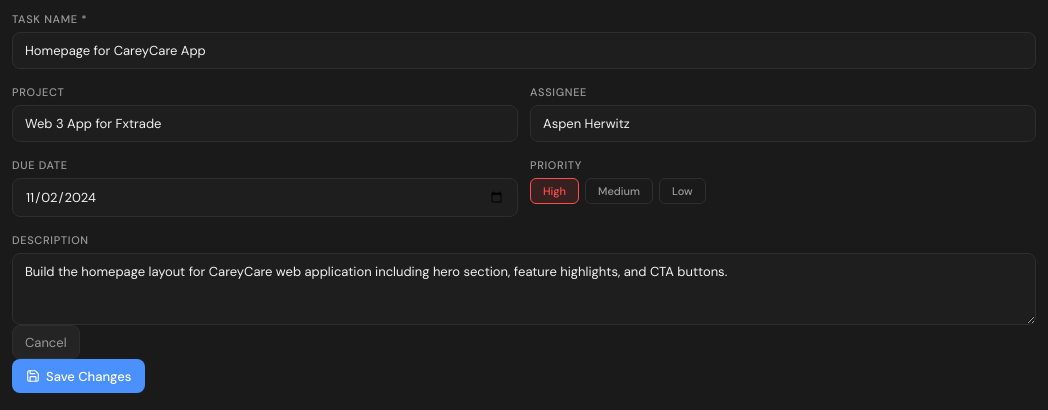
Test: AddTaskModal — reset-on-close when the modal DOM never unmounts › resets the form when closed and immediately reopened for the same edit target
Replace the text in the field labelled "Task Name *" with "Unsaved edit that should not persist" at (524, 50), box x1=12 y1=32 x2=1036 y2=69
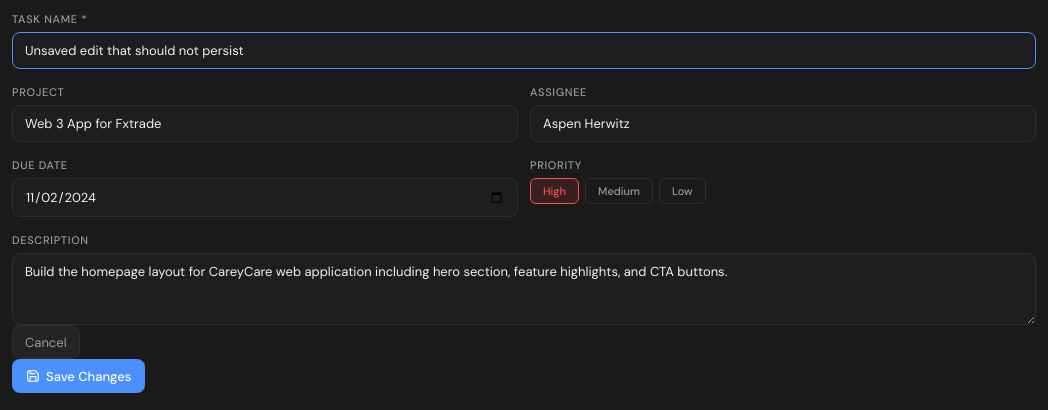
Click the button "Cancel" at (46, 342), box x1=12 y1=325 x2=80 y2=359
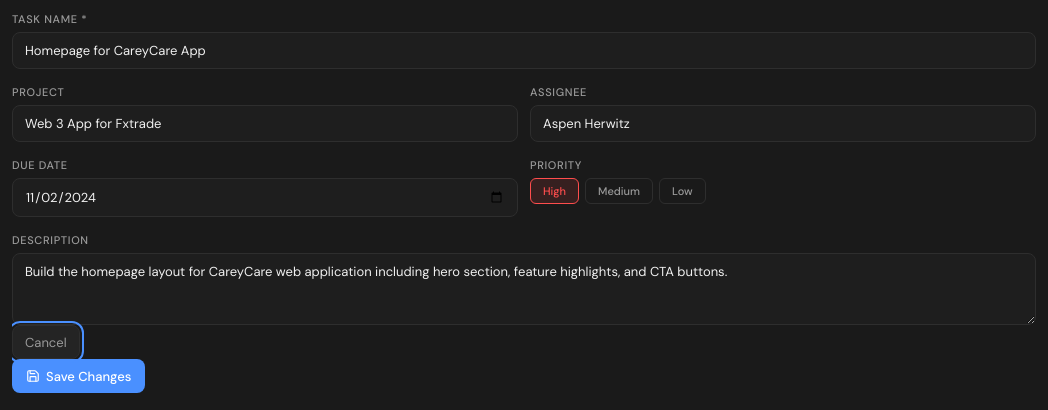
Check: the field labelled "Task Name *" holds "Homepage for CareyCare App", box x1=12 y1=32 x2=1036 y2=69
